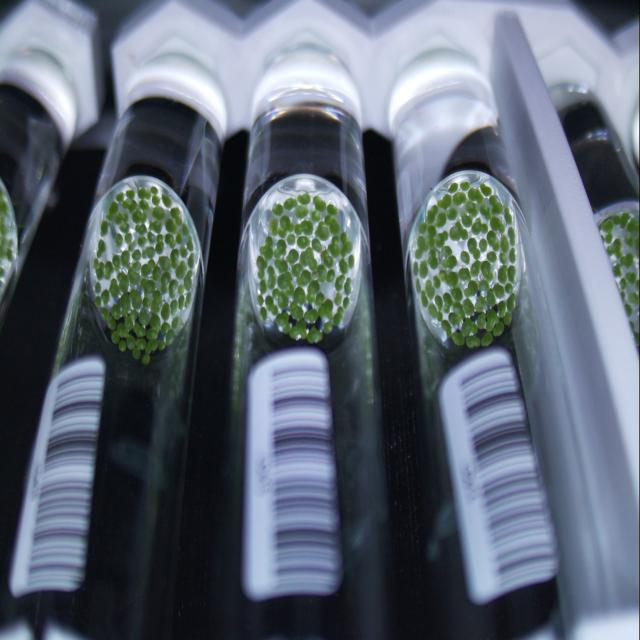Lemna-Gibba: (115, 188, 138, 212), (436, 245, 458, 269), (300, 247, 318, 270), (308, 280, 324, 305), (450, 220, 468, 242), (318, 250, 334, 274), (289, 320, 308, 340), (328, 237, 345, 259), (278, 272, 294, 295), (438, 270, 459, 287), (272, 238, 288, 260), (415, 235, 429, 259), (279, 215, 294, 237), (275, 312, 290, 334), (128, 262, 141, 287), (486, 230, 500, 252), (160, 304, 178, 321), (461, 319, 478, 337), (260, 235, 272, 260), (340, 232, 352, 257), (489, 195, 504, 215), (486, 309, 499, 332), (272, 292, 289, 309), (256, 255, 268, 279), (449, 310, 464, 329), (115, 213, 129, 233), (92, 259, 105, 280), (462, 280, 478, 297), (150, 290, 161, 314), (468, 238, 480, 260), (319, 299, 332, 319), (481, 260, 494, 280), (295, 220, 312, 235), (304, 307, 319, 324), (471, 218, 488, 233), (141, 259, 155, 277), (315, 222, 329, 240), (292, 287, 306, 305), (290, 302, 304, 320), (265, 295, 278, 314), (119, 294, 130, 316), (140, 279, 155, 295), (130, 290, 142, 310), (468, 188, 484, 203), (312, 195, 326, 212), (326, 217, 340, 234), (308, 327, 322, 344), (411, 262, 425, 279), (158, 257, 176, 270), (428, 248, 439, 269), (106, 200, 118, 219), (100, 262, 114, 278), (465, 335, 481, 349), (435, 230, 448, 247), (492, 284, 505, 301), (118, 272, 129, 292), (109, 279, 120, 299), (426, 225, 436, 247), (170, 207, 182, 225), (426, 205, 438, 223), (132, 208, 146, 223), (132, 322, 146, 337), (491, 218, 505, 233), (451, 330, 465, 345), (175, 260, 186, 279), (286, 248, 299, 264), (299, 270, 311, 287), (332, 307, 344, 324), (439, 193, 451, 210), (161, 270, 171, 290), (149, 314, 160, 332), (464, 299, 475, 317), (141, 245, 155, 259), (145, 339, 158, 354), (465, 200, 478, 215), (492, 322, 505, 337), (452, 302, 465, 317), (429, 304, 442, 319), (319, 270, 335, 282), (268, 265, 276, 289), (498, 265, 508, 284), (419, 260, 429, 279), (425, 280, 435, 299), (170, 248, 179, 269), (480, 203, 491, 220), (475, 295, 486, 312), (444, 295, 455, 312), (284, 197, 298, 210), (295, 205, 309, 218), (296, 235, 310, 248), (275, 260, 288, 274), (452, 192, 466, 205), (460, 212, 472, 227), (506, 294, 516, 312), (486, 289, 496, 307), (111, 304, 122, 320), (155, 235, 164, 254), (96, 238, 105, 257), (470, 260, 480, 277), (498, 300, 508, 317), (152, 207, 165, 220), (135, 222, 148, 235), (298, 192, 311, 205), (116, 324, 128, 338), (486, 250, 498, 264), (165, 218, 176, 233), (165, 233, 176, 248), (164, 329, 175, 344), (139, 310, 150, 325), (500, 235, 511, 250), (459, 267, 470, 282), (481, 332, 492, 347), (476, 312, 485, 330), (184, 270, 192, 290), (126, 334, 136, 350), (146, 327, 158, 340), (450, 287, 462, 300), (111, 255, 122, 269), (311, 238, 322, 252), (321, 320, 332, 334), (480, 183, 491, 197), (435, 213, 446, 227), (100, 220, 109, 237), (121, 250, 130, 267), (186, 235, 194, 254), (421, 290, 429, 309), (170, 280, 179, 296), (446, 208, 458, 220), (138, 187, 151, 198), (150, 220, 161, 233), (291, 264, 302, 277), (161, 193, 171, 207), (339, 259, 349, 273), (460, 250, 470, 264), (442, 322, 452, 336), (508, 265, 516, 282), (125, 315, 134, 330), (269, 218, 278, 233), (479, 238, 488, 253), (139, 198, 150, 210), (498, 252, 509, 264), (136, 337, 146, 350), (311, 210, 321, 223), (170, 299, 178, 315), (152, 265, 161, 279), (101, 290, 110, 304), (344, 277, 351, 295), (505, 207, 512, 225), (272, 205, 284, 215), (335, 277, 345, 289), (508, 227, 515, 244), (100, 307, 109, 320), (171, 315, 179, 329), (432, 275, 440, 289), (448, 182, 458, 193), (418, 222, 428, 233), (479, 279, 489, 290), (151, 193, 160, 205), (161, 322, 170, 334), (111, 332, 120, 344), (505, 282, 514, 294), (115, 233, 122, 248), (188, 254, 195, 269), (348, 254, 355, 269), (259, 279, 266, 294), (435, 295, 442, 310), (108, 317, 116, 330), (330, 203, 338, 216), (260, 307, 268, 320), (181, 223, 190, 234), (132, 250, 141, 261), (130, 309, 139, 320), (509, 248, 516, 262), (124, 233, 132, 245), (138, 235, 146, 247), (142, 297, 150, 309), (150, 185, 159, 195), (126, 240, 135, 250), (180, 245, 189, 255), (132, 349, 141, 359), (502, 314, 511, 324), (186, 292, 192, 306), (94, 282, 101, 294), (119, 340, 126, 352), (288, 233, 295, 245), (141, 355, 150, 364), (460, 182, 470, 190), (179, 295, 185, 308), (148, 232, 155, 243), (335, 294, 342, 305), (95, 295, 101, 307), (175, 233, 182, 243), (178, 284, 185, 294), (158, 340, 165, 350), (312, 270, 319, 280), (132, 262, 141, 269), (258, 295, 262, 307), (415, 282, 421, 290), (344, 297, 348, 308), (152, 187, 155, 190)
